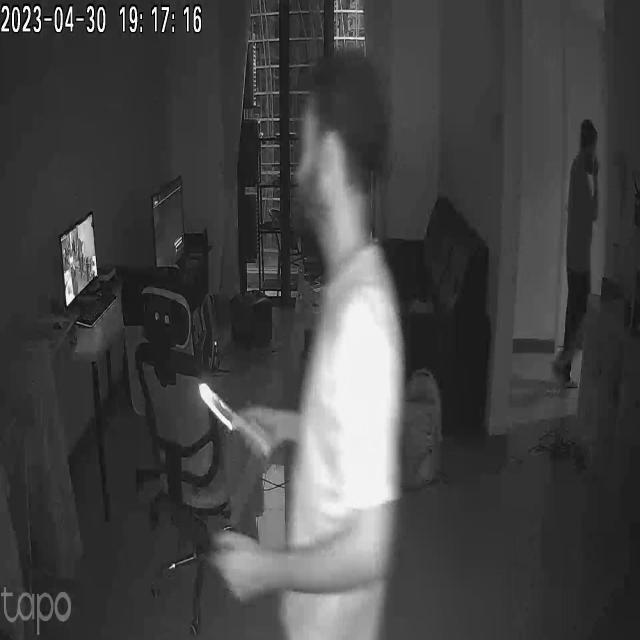Knife: (181, 374, 272, 458)
